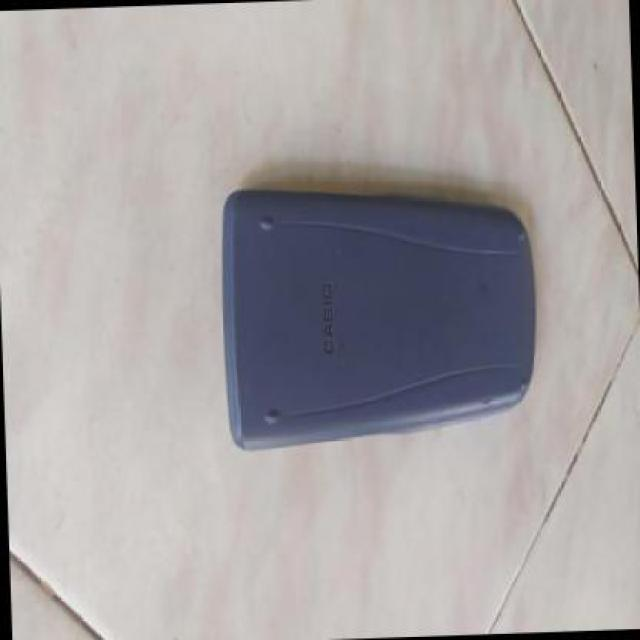Calculator: (200, 164, 552, 476)
